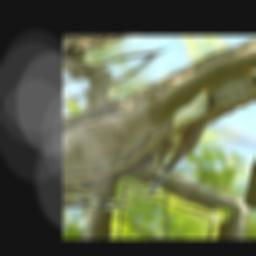Cuckoo: (99, 82, 255, 197)
